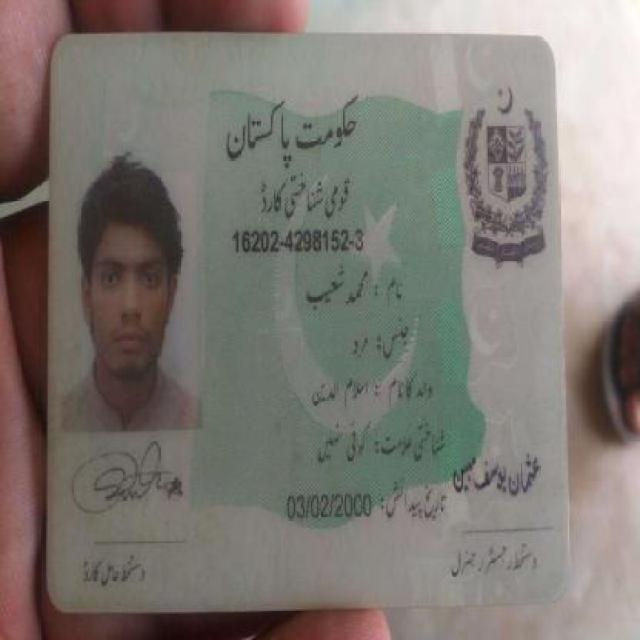Front: (40, 20, 569, 614)
